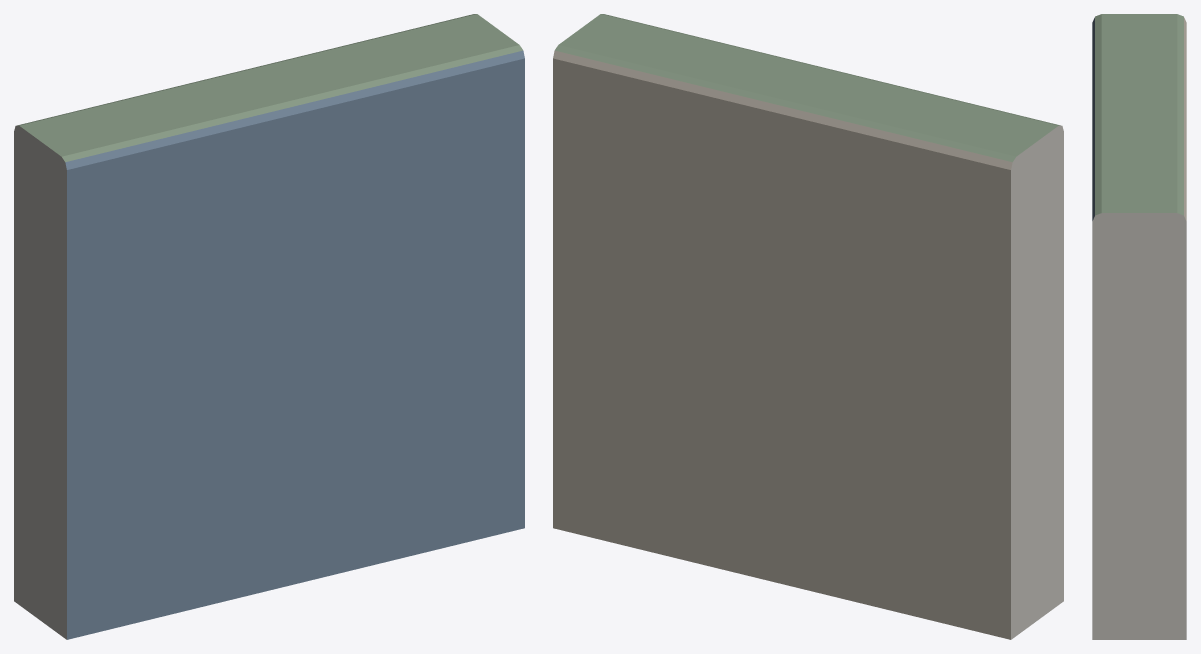
The model's file is SM_Kit_Wall_Half.glb.
3 views of the same model, side by side, from view 1: azimuth 30°, elevation 25°; view 2: azimuth 150°, elevation 25°; view 3: azimuth 270°, elevation 25° (orthographic). The views are drawn at different scales.
Parts seen in each view (by area): view 1: SM_Kit_Wall_Half; view 2: SM_Kit_Wall_Half; view 3: SM_Kit_Wall_Half.
Boxes of the visible parts, x1,y1,x2,y2 form: SM_Kit_Wall_Half: (14,14,524,639); SM_Kit_Wall_Half: (553,14,1063,639); SM_Kit_Wall_Half: (1092,14,1186,639).
Size of the model in its own units: 1 by 1 by 0.2.
